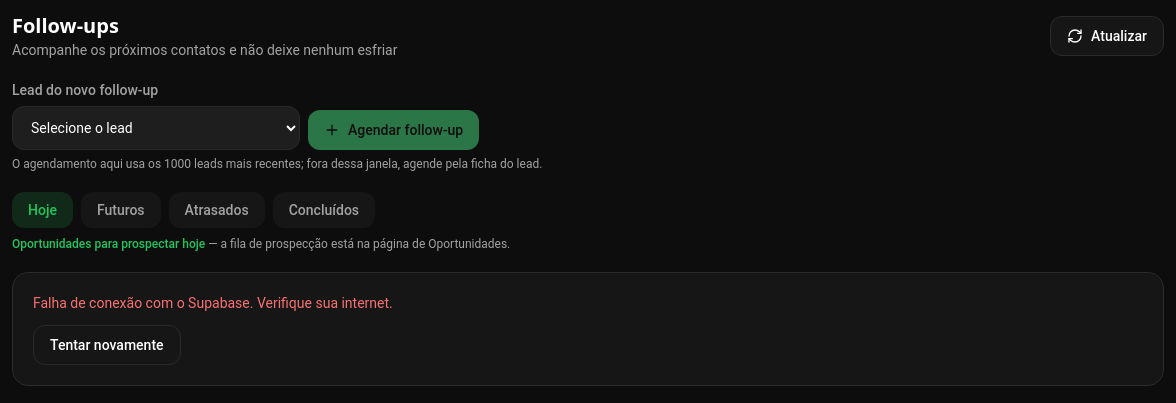
Test: FollowUpsPage carregando, erro e vazio › mostra o erro da consulta em vez de afirmar que não há follow-up
This screenshot has width=1176, height=403.
Check: the message shows "Falha de conexão com o Supabase", box [33,295,393,311]
Click the button "Tentar novamente".
click(107, 345)  # box [33,325,181,365]
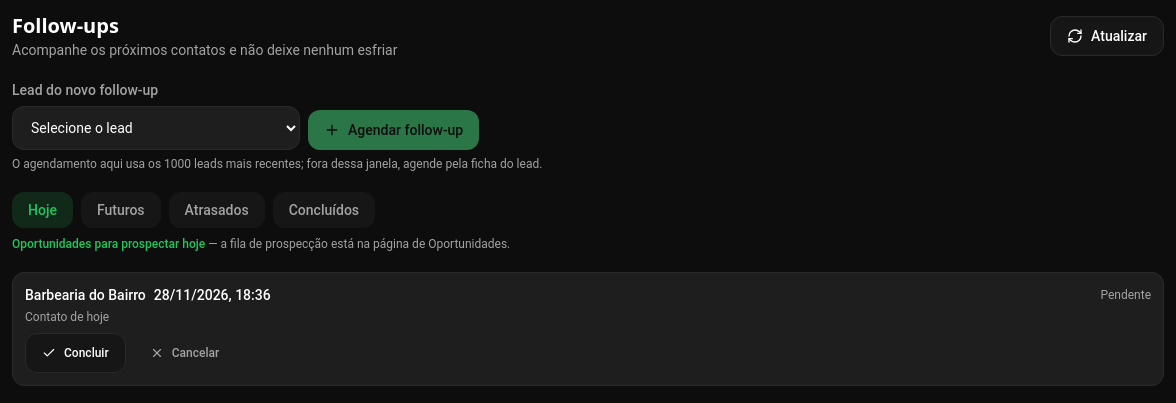
Check: the text "Contato de hoje" is shown, box [25,310,109,324]
Check: the message "Falha de conexão com o Supabase. Verifique sua internet. Tentar novamente" is gone
